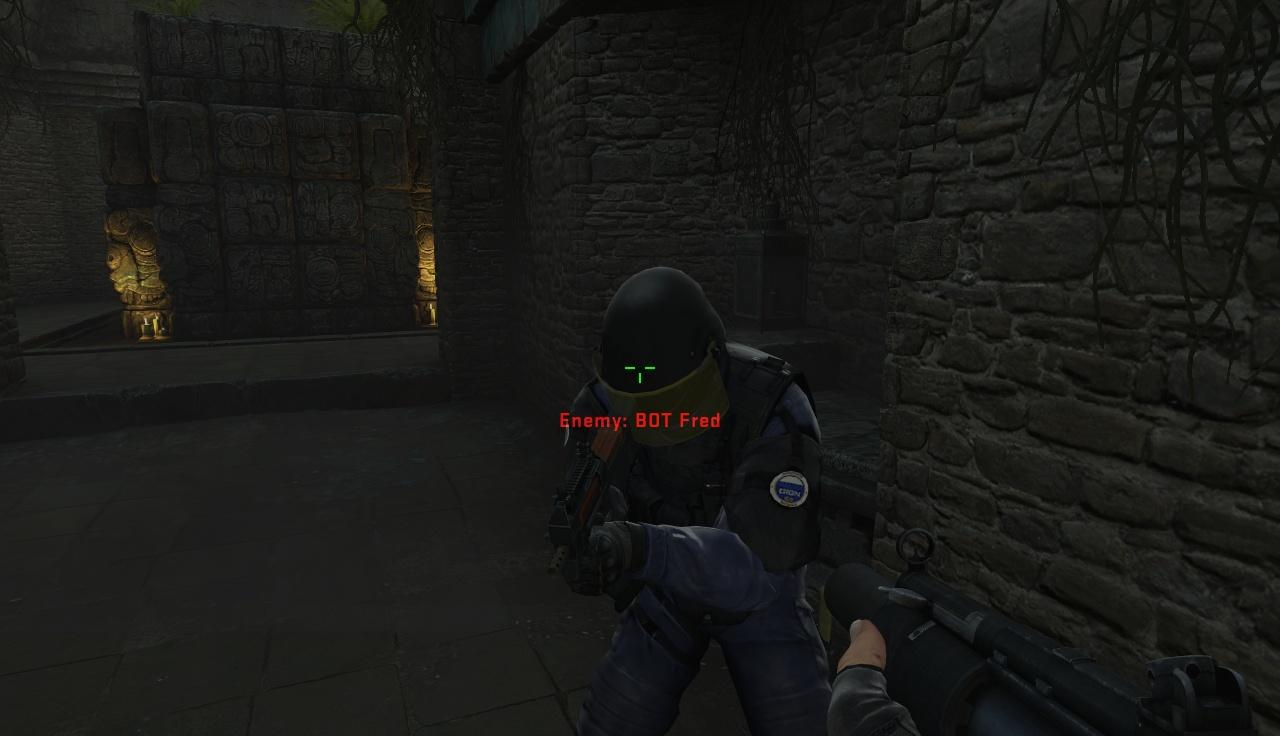ct: (564, 268, 812, 736)
cthead: (597, 269, 722, 420)
rifle: (815, 527, 1280, 736)
